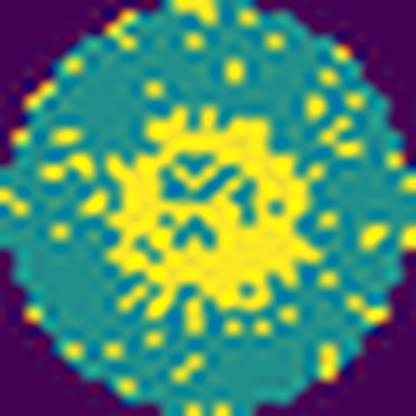Center: (101, 102, 322, 319)
